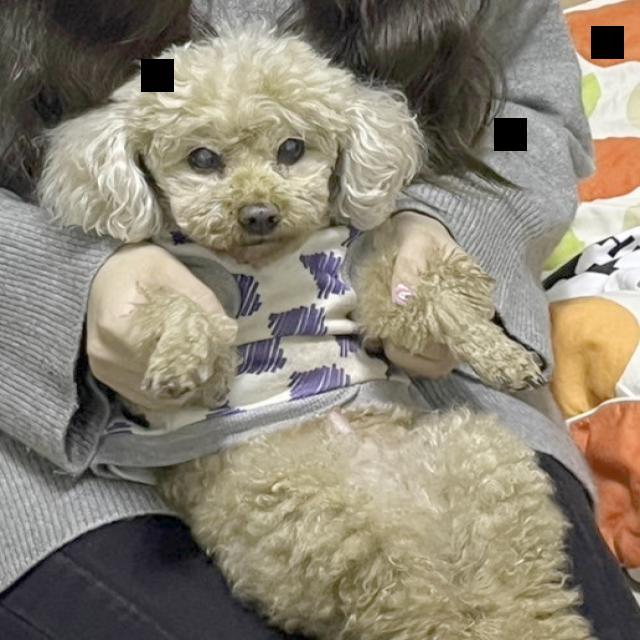adult_dog: (42, 31, 593, 640)
